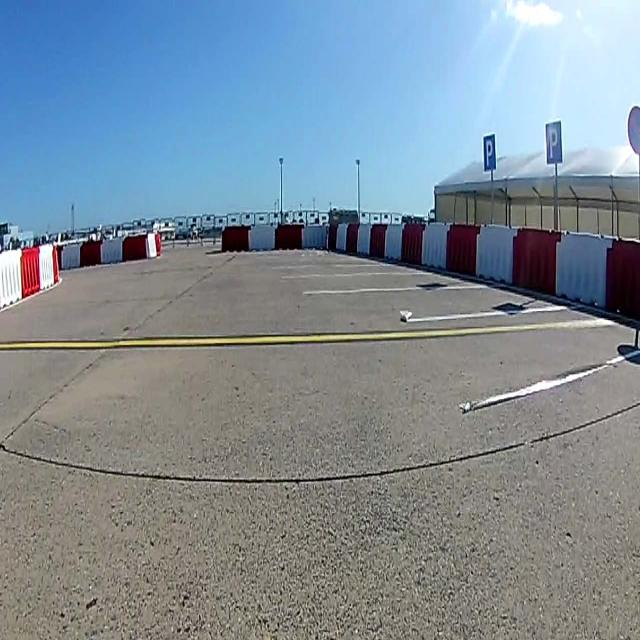park: (545, 121, 562, 163), (482, 134, 496, 172)
parkyasak: (627, 106, 640, 154)
